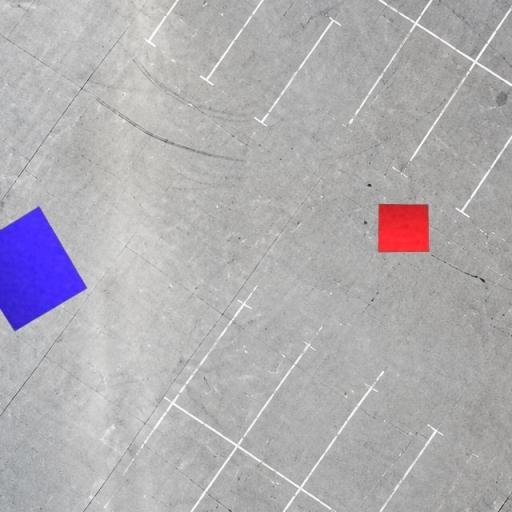BLUE_SQUARE: (0, 206, 88, 332)
RED_SQUARE: (378, 203, 430, 253)
